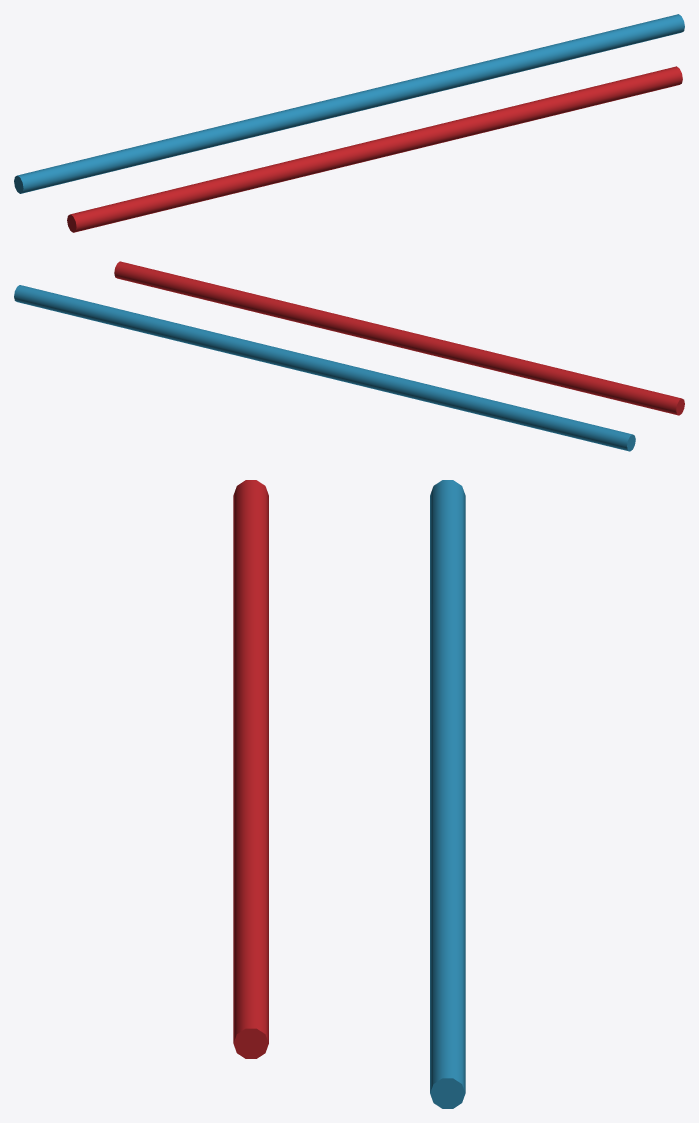
The model's file is hydraulic_control_valve_assembly_pressure.glb.
3 renders of one model, top to bottom at view 1: azimuth 30°, elevation 25°; view 2: azimuth 150°, elevation 25°; view 3: azimuth 270°, elevation 25°, orthographic. The views are drawn at different scales.
Visible parts, largest first — view 1: press; view 2: press; view 3: press.
Part boxes in pixels (x1,y1,x2,y2): press: [14, 14, 684, 232]; press: [14, 261, 684, 451]; press: [233, 480, 465, 1108].
Bounding box in the file's own units: 0.72 × 0.0171 × 0.118.
